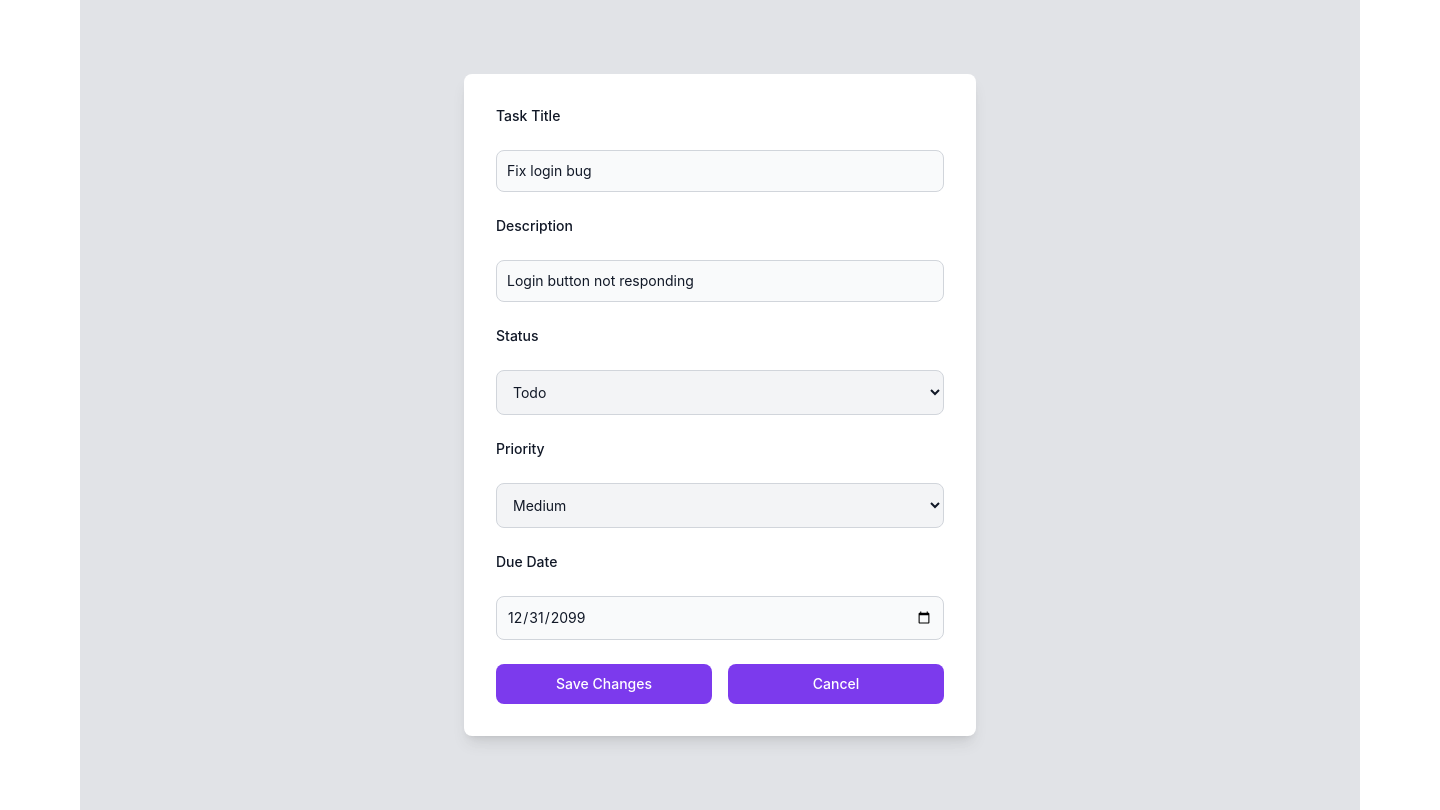
Test case: EditTaskModal component › shows error when saving task fails
The image size is (1440, 810).
Expected: the 1st field showing "Fix login bug" is shown, [496,150,944,192]
Step 1. Click the button "Save Changes" → [604, 684], box [496,664,712,704]
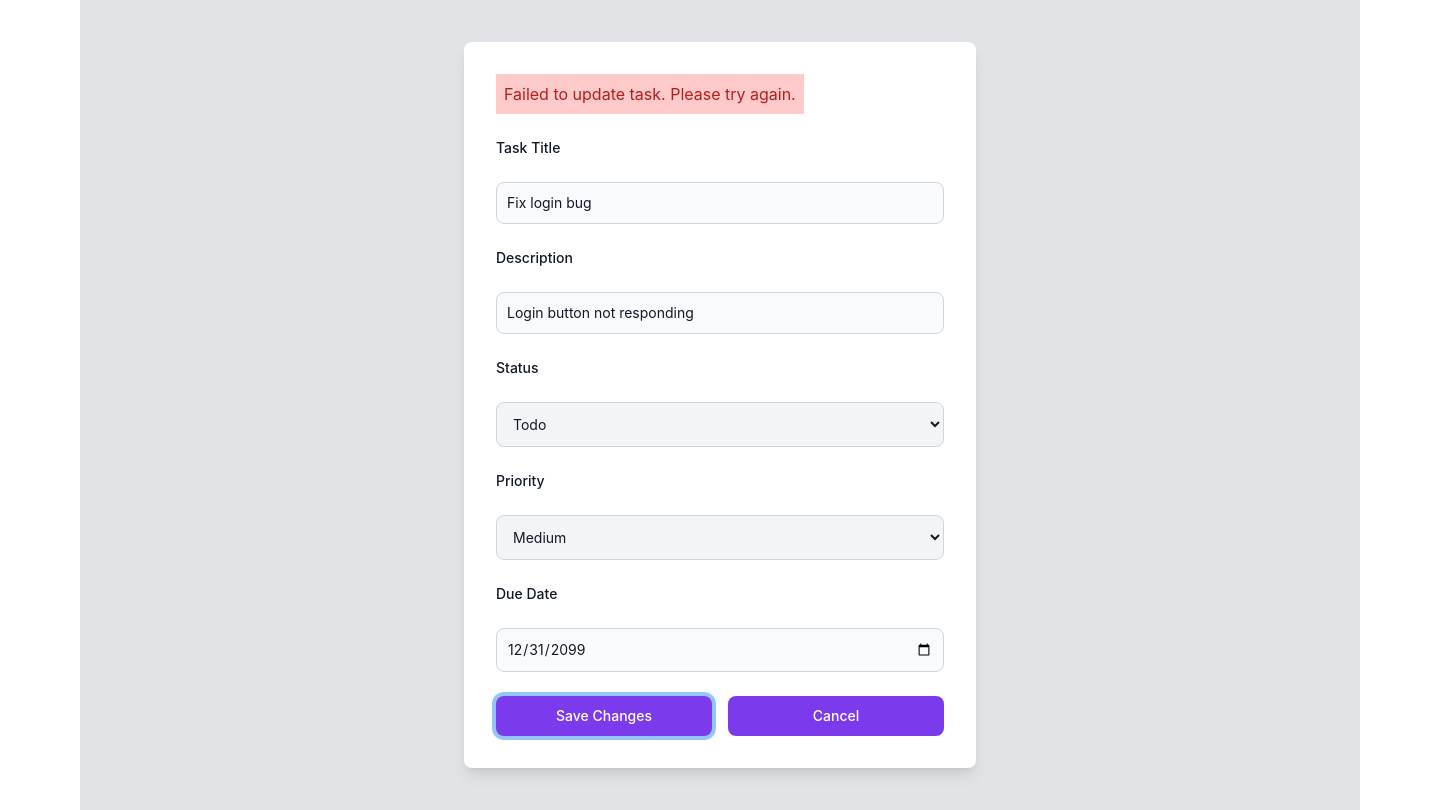
Expected: the text "Failed to update task. Please try again." is shown, [496,74,804,114]
